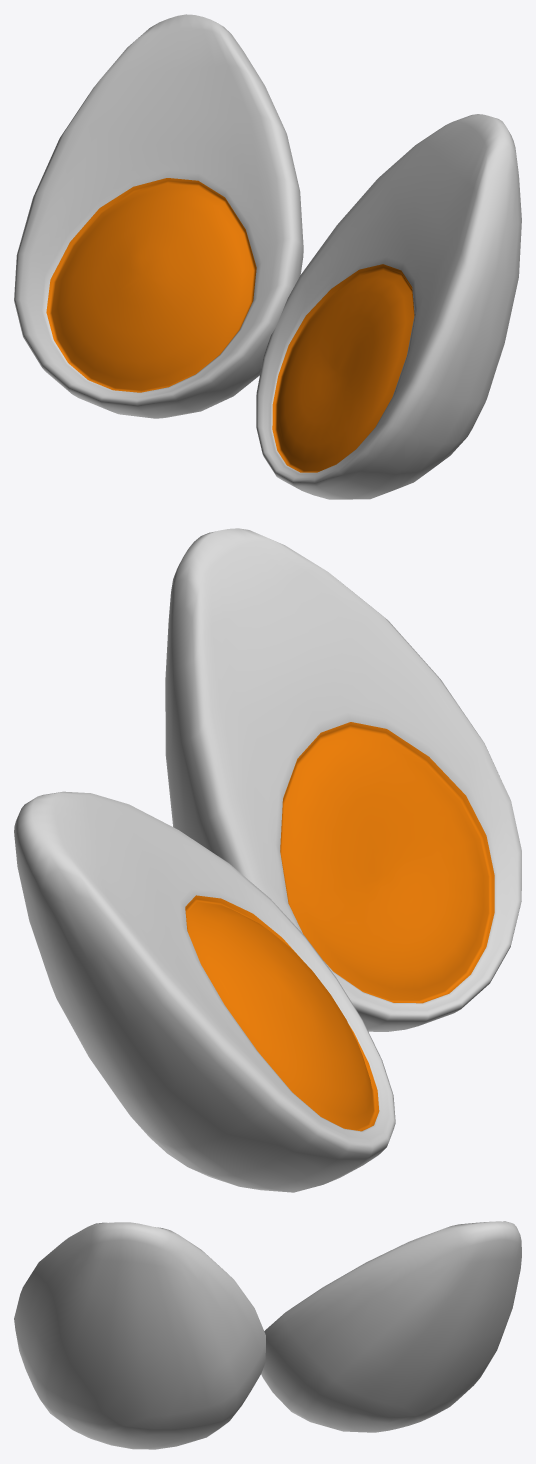
The model's file is Eggggss.fbx.
3 views of the same model, one above another, from view 1: azimuth 30°, elevation 25°; view 2: azimuth 150°, elevation 25°; view 3: azimuth 270°, elevation 25° (orthographic). The views are drawn at different scales.
Visible parts, largest first — view 1: polySurface2158; view 2: polySurface2158; view 3: polySurface2158.
Part boxes in pixels (x1=…): polySurface2158: x1=14, y1=14, x2=521, y2=499; polySurface2158: x1=14, y1=528, x2=521, y2=1192; polySurface2158: x1=14, y1=1221, x2=521, y2=1449.
Size of the model in its own units: 17.97 by 19.35 by 31.78.
